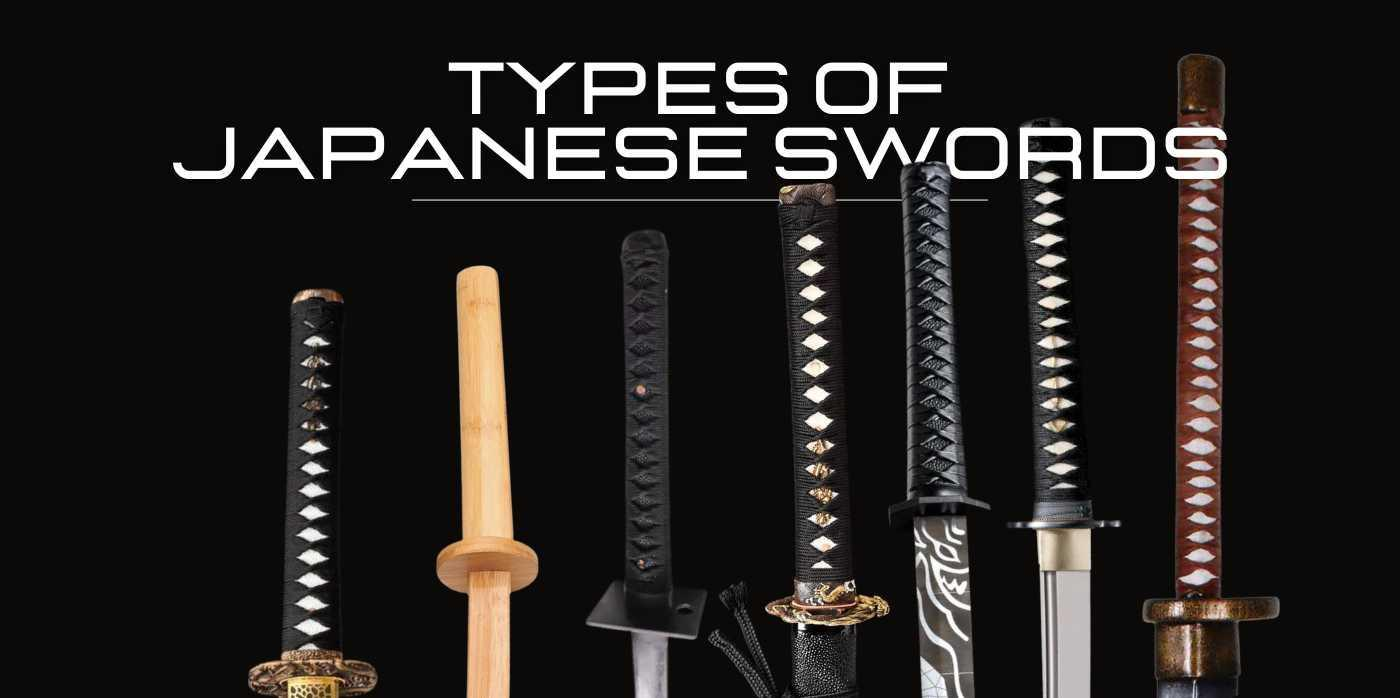espada: (1154, 45, 1262, 698), (890, 171, 1000, 698), (1006, 153, 1104, 698), (777, 169, 872, 698), (272, 246, 370, 698), (608, 209, 696, 698)
